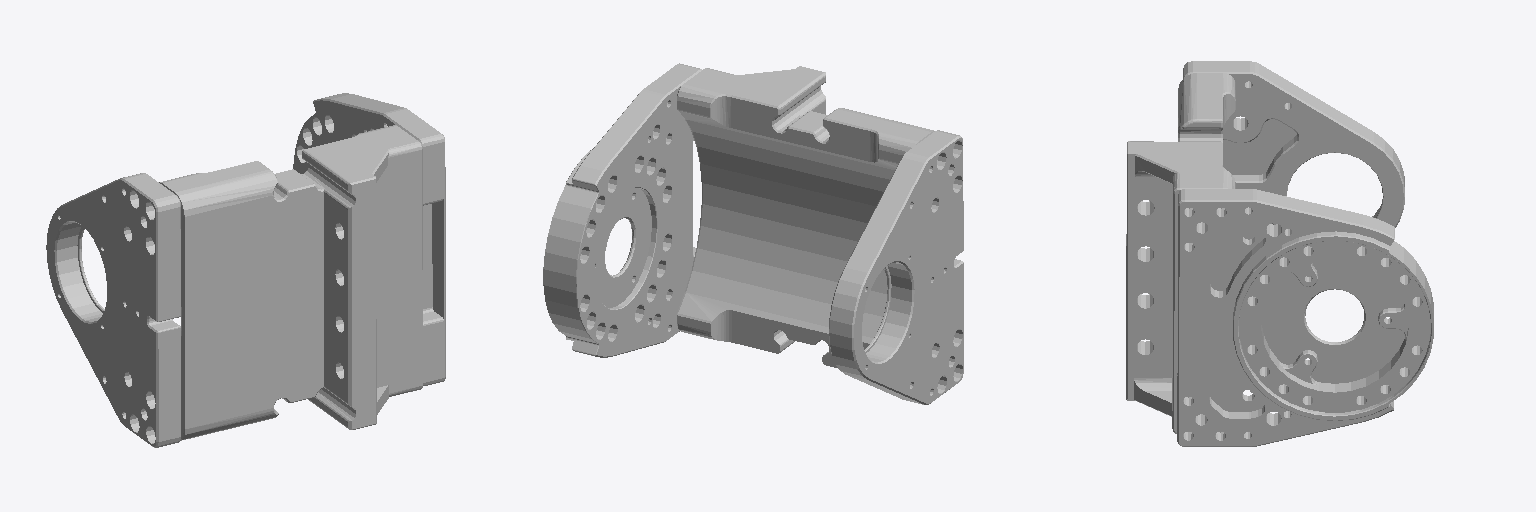
File: waist_roll_link.obj
3 views of the same model, side by side, from view 1: azimuth 30°, elevation 25°; view 2: azimuth 150°, elevation 25°; view 3: azimuth 270°, elevation 25° (orthographic).
Visible parts, largest first — view 1: waist_roll_link; view 2: waist_roll_link; view 3: waist_roll_link.
Part boxes in pixels (x1,y1,x2,y2): waist_roll_link: (46,93,445,447); waist_roll_link: (543,63,963,404); waist_roll_link: (1126,61,1433,446).
Size of the model in its own units: 0.1063 by 0.0851 by 0.0961.